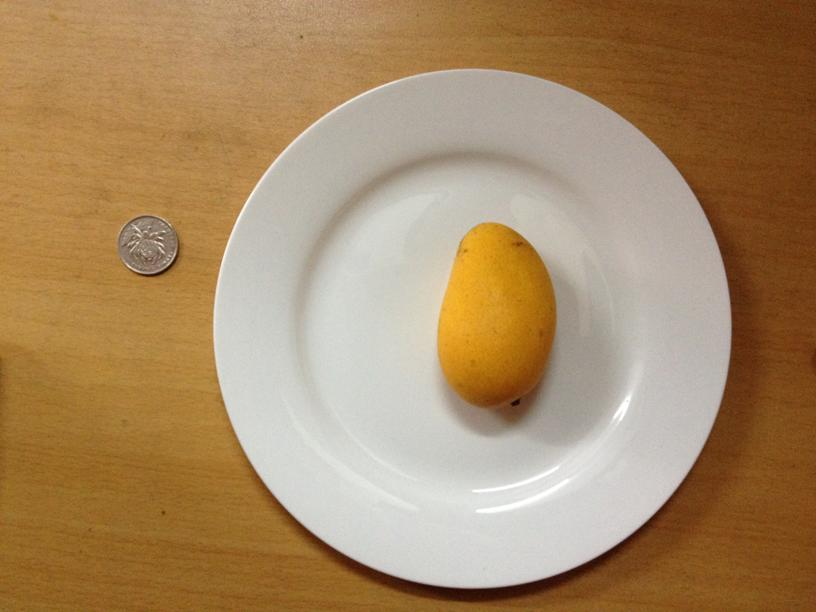coin: (117, 214, 178, 274)
mango: (435, 222, 556, 410)
